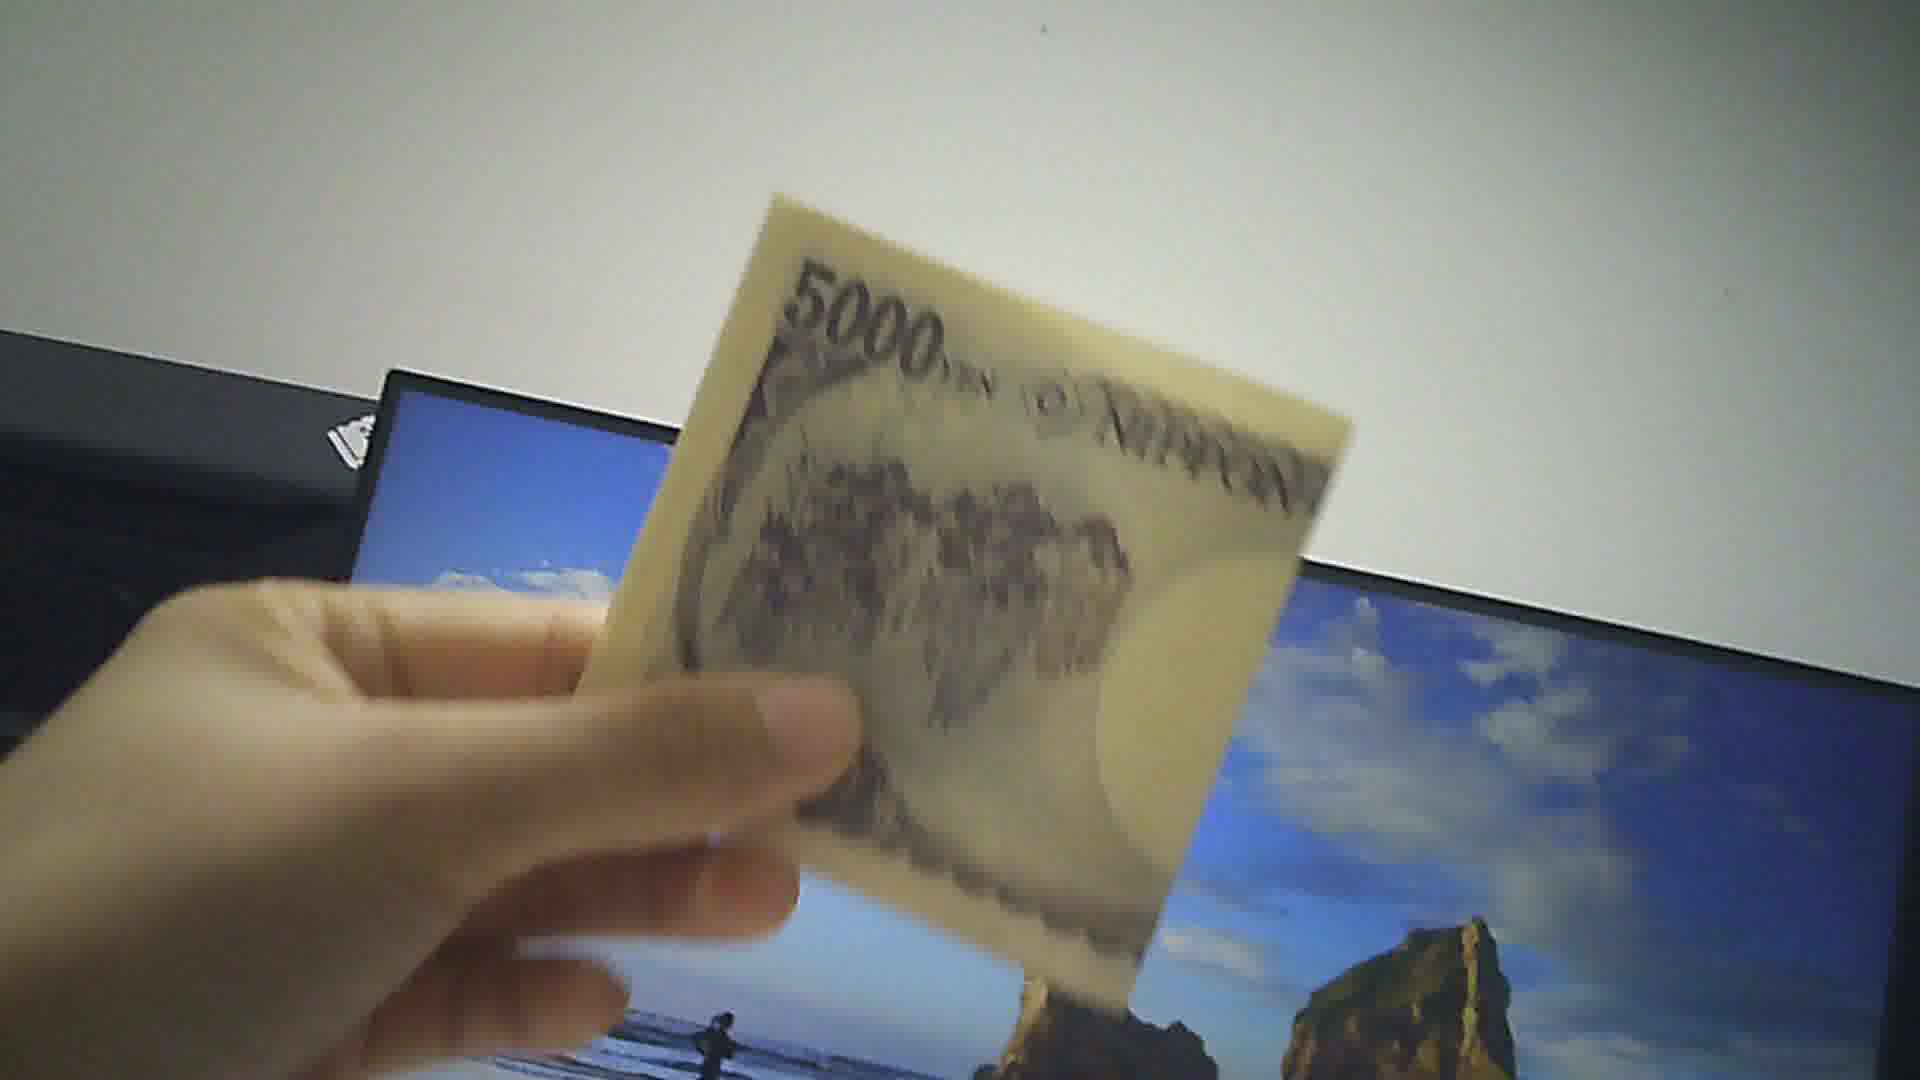5,000 Yen: (579, 174, 1369, 1015)
